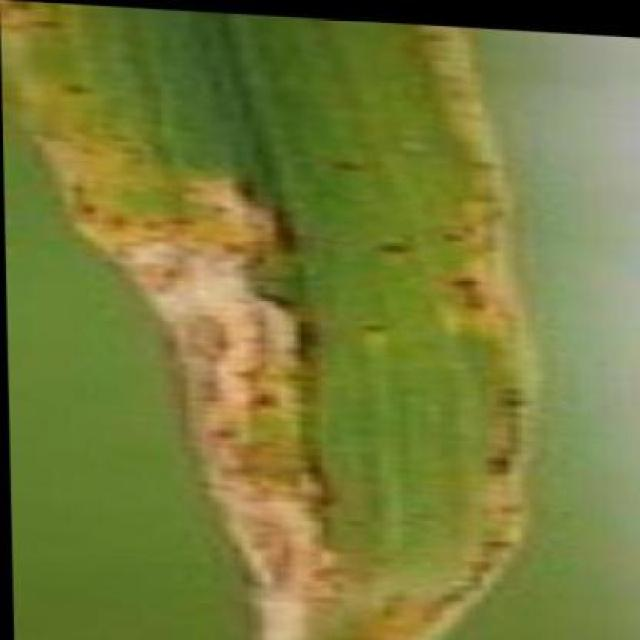Brown_Spot: (91, 12, 511, 639)
